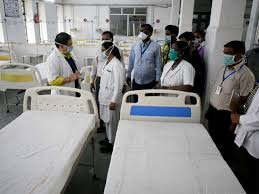mask: (222, 37, 247, 65), (53, 31, 75, 56), (167, 39, 188, 60), (99, 40, 118, 59), (137, 22, 155, 40), (163, 24, 178, 44), (100, 30, 113, 44)
